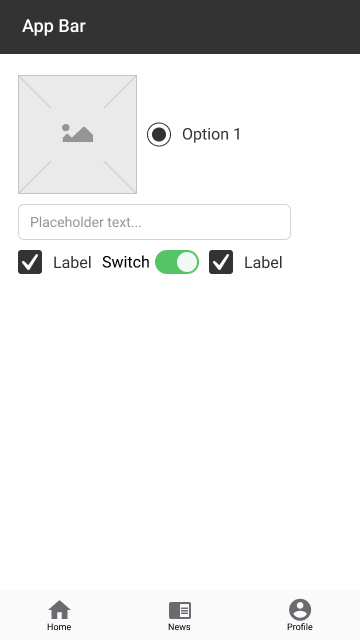checkBox: (208, 247, 282, 275), (18, 249, 93, 275)
editText: (15, 202, 293, 242)
imageView: (15, 73, 139, 196)
navigationButton: (1, 592, 360, 640)
radioButton: (145, 120, 245, 149)
switch: (100, 249, 199, 275)
toolbar: (1, 1, 360, 55)
